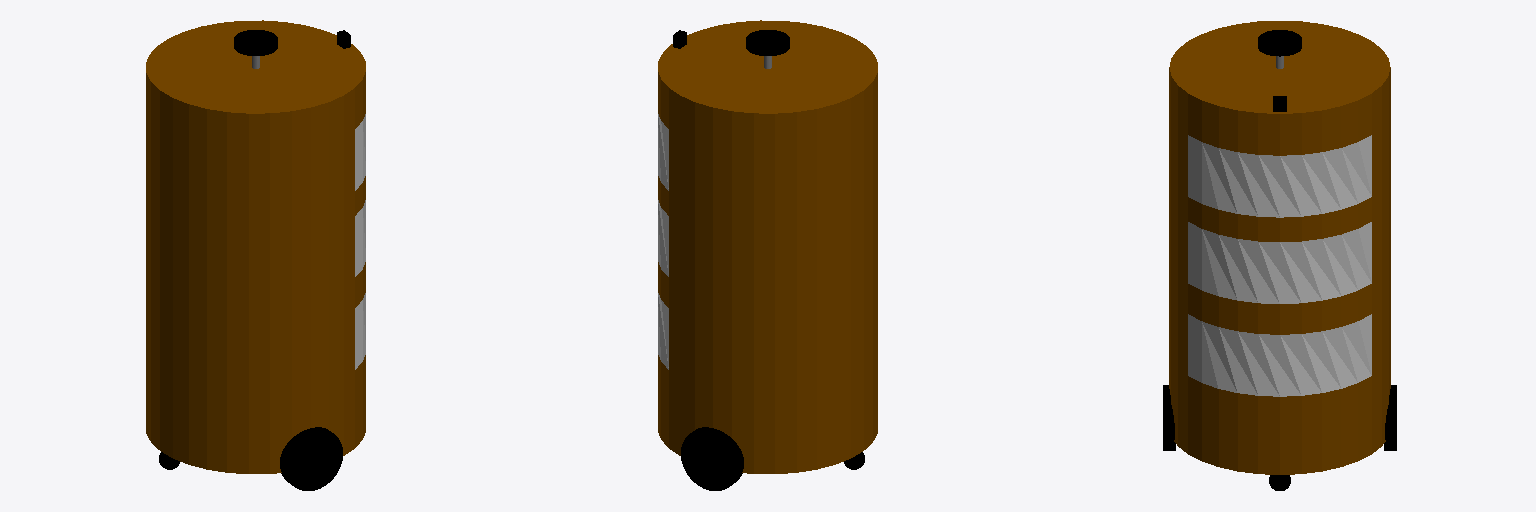
URDF robot description (my_car_camera):
<?xml version="1.0" ?>
<!-- =================================================================================== -->
<!-- |    This document was autogenerated by xacro from test.xacro                     | -->
<!-- |    EDITING THIS FILE BY HAND IS NOT RECOMMENDED                                 | -->
<!-- =================================================================================== -->
<!-- 组合小车底盘与摄像头 -->
<robot name="my_car_camera">
  <!-- 质量  -->
  <!-- 底盘 -->
  <link name="base_footprint">
    <visual>
      <geometry>
        <sphere radius="0.001"/>
      </geometry>
    </visual>
  </link>
  <link name="base_link">
    <visual>
      <geometry>
        <mesh filename="package://zj_base/meshes/modle.stl"/>
      </geometry>
      <origin rpy="0 0 0" xyz="0 0 0"/>
      <material name="yellow">
        <color rgba="0.5 0.3 0.0 0.5"/>
      </material>
    </visual>
    <collision>
      <geometry>
        <cylinder length="0.9" radius="0.25"/>
      </geometry>
      <origin rpy="0 0 0" xyz="0 0 0"/>
    </collision>
    <inertial>
      <mass value="5.0"/>
      <inertia ixx="0.4156250000000001" ixy="0" ixz="0" iyy="0.4156250000000001" iyz="0" izz="0.15625"/>
    </inertial>
  </link>
  <joint name="base_link2base_footprint" type="fixed">
    <parent link="base_footprint"/>
    <child link="base_link"/>
    <origin xyz="0 0 0.5"/>
  </joint>
  <gazebo reference="base_link">
    <material>Gazebo/Yellow</material>
  </gazebo>
  <!-- 质量  -->
  <link name="left_wheel">
    <visual>
      <geometry>
        <cylinder length="0.03" radius="0.075"/>
      </geometry>
      <origin rpy="1.5707963 0.0 0.0" xyz="0.0 0.0 0.0"/>
      <material name="black">
        <color rgba="0.0 0.0 0.0 1.0"/>
      </material>
    </visual>
    <collision>
      <geometry>
        <cylinder length="0.03" radius="0.075"/>
      </geometry>
      <origin rpy="1.5707963 0.0 0.0" xyz="0.0 0.0 0.0"/>
    </collision>
    <inertial>
      <mass value="0.2"/>
      <inertia ixx="0.00029625" ixy="0" ixz="0" iyy="0.00029625" iyz="0" izz="0.0005625"/>
    </inertial>
  </link>
  <joint name="left_wheel2base_link" type="continuous">
    <parent link="base_link"/>
    <child link="left_wheel"/>
    <origin xyz="0 0.25 -0.425"/>
    <axis xyz="0 1 0"/>
  </joint>
  <gazebo reference="left_wheel">
    <material>Gazebo/Black</material>
  </gazebo>
  <link name="right_wheel">
    <visual>
      <geometry>
        <cylinder length="0.03" radius="0.075"/>
      </geometry>
      <origin rpy="1.5707963 0.0 0.0" xyz="0.0 0.0 0.0"/>
      <material name="black">
        <color rgba="0.0 0.0 0.0 1.0"/>
      </material>
    </visual>
    <collision>
      <geometry>
        <cylinder length="0.03" radius="0.075"/>
      </geometry>
      <origin rpy="1.5707963 0.0 0.0" xyz="0.0 0.0 0.0"/>
    </collision>
    <inertial>
      <mass value="0.2"/>
      <inertia ixx="0.00029625" ixy="0" ixz="0" iyy="0.00029625" iyz="0" izz="0.0005625"/>
    </inertial>
  </link>
  <joint name="right_wheel2base_link" type="continuous">
    <parent link="base_link"/>
    <child link="right_wheel"/>
    <origin xyz="0 -0.25 -0.425"/>
    <axis xyz="0 1 0"/>
  </joint>
  <gazebo reference="right_wheel">
    <material>Gazebo/Black</material>
  </gazebo>
  <!-- 质量  -->
  <link name="front_wheel">
    <visual>
      <geometry>
        <sphere radius="0.025"/>
      </geometry>
      <origin rpy="0 0 0" xyz="0 0 0"/>
      <material name="black">
        <color rgba="0.0 0.0 0.0 1.0"/>
      </material>
    </visual>
    <collision>
      <geometry>
        <sphere radius="0.025"/>
      </geometry>
      <origin rpy="0 0 0" xyz="0 0 0"/>
    </collision>
    <inertial>
      <mass value="0.1"/>
      <inertia ixx="2.5000000000000005e-05" ixy="0" ixz="0" iyy="2.5000000000000005e-05" iyz="0" izz="2.5000000000000005e-05"/>
    </inertial>
  </link>
  <joint name="front_wheel2base_link" type="continuous">
    <parent link="base_link"/>
    <child link="front_wheel"/>
    <origin xyz="0.225 0 -0.47500000000000003"/>
    <axis xyz="1 0 0"/>
  </joint>
  <gazebo reference="front_wheel">
    <material>Gazebo/Black</material>
    <mu1>0.0</mu1>
    <!-- 滚动摩擦 -->
    <mu2>0.0</mu2>
    <!-- 滑动摩擦 -->
    <kp>1000000.0</kp>
    <kd>100.0</kd>
  </gazebo>
  <link name="back_wheel">
    <visual>
      <geometry>
        <sphere radius="0.025"/>
      </geometry>
      <origin rpy="0 0 0" xyz="0 0 0"/>
      <material name="black">
        <color rgba="0.0 0.0 0.0 1.0"/>
      </material>
    </visual>
    <collision>
      <geometry>
        <sphere radius="0.025"/>
      </geometry>
      <origin rpy="0 0 0" xyz="0 0 0"/>
    </collision>
    <inertial>
      <mass value="0.1"/>
      <inertia ixx="2.5000000000000005e-05" ixy="0" ixz="0" iyy="2.5000000000000005e-05" iyz="0" izz="2.5000000000000005e-05"/>
    </inertial>
  </link>
  <joint name="back_wheel2base_link" type="continuous">
    <parent link="base_link"/>
    <child link="back_wheel"/>
    <origin xyz="-0.225 0 -0.47500000000000003"/>
    <axis xyz="1 0 0"/>
  </joint>
  <gazebo reference="back_wheel">
    <material>Gazebo/Black</material>
    <mu1>0.0</mu1>
    <!-- 滚动摩擦 -->
    <mu2>0.0</mu2>
    <!-- 滑动摩擦 -->
    <kp>1000000.0</kp>
    <kd>100.0</kd>
  </gazebo>
  <!-- Transmission is important to link the joints and the controller -->
  <transmission name="left_wheel2base_link_trans">
    <type>transmission_interface/SimpleTransmission</type>
    <joint name="left_wheel2base_link">
      <hardwareInterface>hardware_interface/VelocityJointInterface</hardwareInterface>
    </joint>
    <actuator name="left_wheel2base_link_motor">
      <hardwareInterface>hardware_interface/VelocityJointInterface</hardwareInterface>
      <mechanicalReduction>1</mechanicalReduction>
    </actuator>
  </transmission>
  <!-- Transmission is important to link the joints and the controller -->
  <transmission name="right_wheel2base_link_trans">
    <type>transmission_interface/SimpleTransmission</type>
    <joint name="right_wheel2base_link">
      <hardwareInterface>hardware_interface/VelocityJointInterface</hardwareInterface>
    </joint>
    <actuator name="right_wheel2base_link_motor">
      <hardwareInterface>hardware_interface/VelocityJointInterface</hardwareInterface>
      <mechanicalReduction>1</mechanicalReduction>
    </actuator>
  </transmission>
  <!-- 控制器 -->
  <gazebo>
    <plugin filename="libgazebo_ros_diff_drive.so" name="differential_drive_controller">
      <rosDebugLevel>Debug</rosDebugLevel>
      <publishWheelTF>true</publishWheelTF>
      <robotNamespace>/</robotNamespace>
      <publishTf>1</publishTf>
      <publishWheelJointState>true</publishWheelJointState>
      <alwaysOn>true</alwaysOn>
      <updateRate>100.0</updateRate>
      <legacyMode>true</legacyMode>
      <leftJoint>left_wheel2base_link</leftJoint>
      <!-- 左轮 -->
      <rightJoint>right_wheel2base_link</rightJoint>
      <!-- 右轮 -->
      <wheelSeparation>0.5</wheelSeparation>
      <!-- 车轮间距 -->
      <wheelDiameter>0.15</wheelDiameter>
      <!-- 车轮直径 -->
      <broadcastTF>1</broadcastTF>
      <wheelTorque>30</wheelTorque>
      <wheelAcceleration>1.8</wheelAcceleration>
      <commandTopic>cmd_vel</commandTopic>
      <!-- 运动控制话题 -->
      <odometryFrame>odom</odometryFrame>
      <odometryTopic>odom</odometryTopic>
      <!-- 里程计话题 -->
      <robotBaseFrame>base_footprint</robotBaseFrame>
      <!-- 根坐标系 -->
    </plugin>
  </gazebo>
  <!-- 支架安装的z坐标:底盘高度 / 2 + 支架高度 / 2  -->
  <link name="suport">
    <visual>
      <geometry>
        <cylinder length="0.05" radius="0.01"/>
      </geometry>
      <origin rpy="0 0 0" xyz="0.0 0.0 0.0"/>
      <material name="grey">
        <color rgba="0.5 0.5 0.5 1.0"/>
      </material>
    </visual>
    <collision>
      <geometry>
        <cylinder length="0.05" radius="0.01"/>
      </geometry>
      <origin rpy="0 0 0" xyz="0.0 0.0 0.0"/>
    </collision>
    <inertial>
      <origin xyz="0 0 0"/>
      <mass value="0.1"/>
      <inertia ixx="0.0001" ixy="0" ixz="0" iyy="0.0001" iyz="0" izz="0.0001"/>
    </inertial>
  </link>
  <joint name="support2base_link" type="fixed">
    <parent link="base_link"/>
    <child link="suport"/>
    <origin rpy="0 0 0" xyz="0 0 0.47500000000000003"/>
  </joint>
  <link name="laser">
    <visual>
      <geometry>
        <cylinder length="0.02" radius="0.05"/>
      </geometry>
      <origin rpy="0 0 0" xyz="0 0 0"/>
      <material name="black">
        <color rgba="0.0 0.0 0.0 1.0"/>
      </material>
    </visual>
    <collision>
      <geometry>
        <cylinder length="0.02" radius="0.05"/>
      </geometry>
      <origin rpy="0 0 0" xyz="0 0 0"/>
    </collision>
    <inertial>
      <origin xyz="0 0 0"/>
      <mass value="0.2"/>
      <inertia ixx="0.0001" ixy="0" ixz="0" iyy="0.0001" iyz="0" izz="0.0001"/>
    </inertial>
  </link>
  <joint name="laser2support" type="fixed">
    <parent link="suport"/>
    <child link="laser"/>
    <origin rpy="0 0 0" xyz="0 0 0.035"/>
  </joint>
  <!-- 雷达 -->
  <gazebo reference="laser">
    <sensor name="rplidar" type="ray">
      <pose>0 0 0 0 0 0</pose>
      <visualize>false</visualize>
      <update_rate>5.5</update_rate>
      <ray>
        <scan>
          <horizontal>
            <samples>360</samples>
            <resolution>1</resolution>
            <min_angle>-3.14159</min_angle>
            <max_angle>3.14159</max_angle>
          </horizontal>
        </scan>
        <range>
          <min>0.10</min>
          <max>30.0</max>
          <resolution>0.01</resolution>
        </range>
        <noise>
          <type>gaussian</type>
          <mean>0.0</mean>
          <stddev>0.01</stddev>
        </noise>
      </ray>
      <plugin filename="libgazebo_ros_laser.so" name="gazebo_rplidar">
        <topicName>/scan</topicName>
        <frameName>laser</frameName>
      </plugin>
    </sensor>
  </gazebo>
  <link name="camera">
    <visual>
      <geometry>
        <box size="0.03 0.02 0.03"/>
      </geometry>
      <origin rpy="0 0 1.5705" xyz="0 0 0"/>
      <material name="black">
        <color rgba="0.0 0.0 0.0 1.0"/>
      </material>
    </visual>
    <collision>
      <geometry>
        <box size="0.03 0.02 0.03"/>
      </geometry>
      <origin rpy="0 0 1.5705" xyz="0 0 0"/>
    </collision>
    <inertial>
      <origin xyz="0 0 0"/>
      <mass value="0.1"/>
      <inertia ixx="0.0001" ixy="0" ixz="0" iyy="0.0001" iyz="0" izz="0.0001"/>
    </inertial>
  </link>
  <joint name="camera2base_link" type="fixed">
    <parent link="base_link"/>
    <child link="camera"/>
    <origin rpy="0 0 0" xyz="0.23 0.0 0.465"/>
  </joint>
  <gazebo reference="camera">
    <material>Gazebo/Black</material>
  </gazebo>
  <!-- 抽屉组件1 -->
  <link name="drawer">
    <visual>
      <geometry>
        <mesh filename="package://zj_base/meshes/box.stl"/>
      </geometry>
      <origin rpy="0 0 0" xyz="0 0 0"/>
      <material name="drawer_material">
        <color rgba="0.8 0.8 0.8 1.0"/>
      </material>
    </visual>
    <collision>
      <geometry>
        <box size="0.1 0.15 0.05"/>
      </geometry>
      <origin rpy="0 0 0" xyz="0 0 0"/>
    </collision>
    <inertial>
      <origin xyz="0 0 0"/>
      <mass value="0.2"/>
      <inertia ixx="0.0001" ixy="0" ixz="0" iyy="0.0001" iyz="0" izz="0.0001"/>
    </inertial>
  </link>
  <joint name="drawer2base_link" type="prismatic">
    <parent link="base_link"/>
    <child link="drawer"/>
    <origin rpy="0 0 0" xyz="0 0 0"/>
    <axis xyz="1 0 0"/>
    <limit effort="100" lower="-0.2" upper="0.2" velocity="2.0"/>
  </joint>
  <gazebo reference="drawer">
    <material>Gazebo/Grey</material>
  </gazebo>
  <!-- 抽屉控制器1 -->
  <transmission name="drawer2base_link_trans">
    <type>transmission_interface/SimpleTransmission</type>
    <joint name="drawer2base_link">
      <hardwareInterface>hardware_interface/PositionJointInterface</hardwareInterface>
    </joint>
    <actuator name="drawer2base_link_motor">
      <hardwareInterface>hardware_interface/PositionJointInterface</hardwareInterface>
      <mechanicalReduction>1</mechanicalReduction>
    </actuator>
  </transmission>


<!-- 抽屉组件2 -->
  <link name="drawer2">
    <visual>
      <geometry>
        <mesh filename="package://zj_base/meshes/box2.stl"/>
      </geometry>
      <origin rpy="0 0 0" xyz="0 0 0"/>
      <material name="drawer_material">
        <color rgba="0.8 0.8 0.8 1.0"/>
      </material>
    </visual>
    <collision>
      <geometry>
        <box size="0.1 0.15 0.05"/>
      </geometry>
      <origin rpy="0 0 0" xyz="0 0 0"/>
    </collision>
    <inertial>
      <origin xyz="0 0 0"/>
      <mass value="0.2"/>
      <inertia ixx="0.0001" ixy="0" ixz="0" iyy="0.0001" iyz="0" izz="0.0001"/>
    </inertial>
  </link>
  <joint name="drawer22base_link" type="prismatic">
    <parent link="base_link"/>
    <child link="drawer2"/>
    <origin rpy="0 0 0" xyz="0 0 0"/>
    <axis xyz="1 0 0"/>
    <limit effort="100" lower="-0.2" upper="0.2" velocity="2.0"/>
  </joint>
  <gazebo reference="drawer">
    <material>Gazebo/Grey</material>
  </gazebo>
  <!-- 抽屉控制器2 -->
  <!-- <transmission name="drawer22base_link_trans">
    <type>transmission_interface/SimpleTransmission</type>
    <joint name="drawer22base_link">
      <hardwareInterface>hardware_interface/PositionJointInterface</hardwareInterface>
    </joint>
    <actuator name="drawer22base_link_motor">
      <hardwareInterface>hardware_interface/PositionJointInterface</hardwareInterface>
      <mechanicalReduction>1</mechanicalReduction>
    </actuator>
  </transmission>
 -->


<!-- 抽屉组件3 -->
  <link name="drawer3">
    <visual>
      <geometry>
        <mesh filename="package://zj_base/meshes/box3.stl"/>
      </geometry>
      <origin rpy="0 0 0" xyz="0 0 0"/>
      <material name="drawer_material">
        <color rgba="0.8 0.8 0.8 1.0"/>
      </material>
    </visual>
    <collision>
      <geometry>
        <box size="0.1 0.15 0.05"/>
      </geometry>
      <origin rpy="0 0 0" xyz="0 0 0"/>
    </collision>
    <inertial>
      <origin xyz="0 0 0"/>
      <mass value="0.2"/>
      <inertia ixx="0.0001" ixy="0" ixz="0" iyy="0.0001" iyz="0" izz="0.0001"/>
    </inertial>
  </link>
  <joint name="drawer32base_link" type="prismatic">
    <parent link="base_link"/>
    <child link="drawer3"/>
    <origin rpy="0 0 0" xyz="0 0 0"/>
    <axis xyz="1 0 0"/>
    <limit effort="100" lower="-0.2" upper="0.2" velocity="2.0"/>
  </joint>
  <gazebo reference="drawer">
    <material>Gazebo/Grey</material>
  </gazebo>
  <!-- 抽屉控制器3 -->
  <!-- <transmission name="drawer32base_link_trans">
    <type>transmission_interface/SimpleTransmission</type>
    <joint name="drawer32base_link">
      <hardwareInterface>hardware_interface/PositionJointInterface</hardwareInterface>
    </joint>
    <actuator name="drawer32base_link_motor">
      <hardwareInterface>hardware_interface/PositionJointInterface</hardwareInterface>
      <mechanicalReduction>1</mechanicalReduction>
    </actuator>
  </transmission> -->



  <!-- 被引用的link -->
  <gazebo reference="camera">
    <!-- 类型设置为 camara -->
    <sensor name="camera_node" type="camera">
      <update_rate>30.0</update_rate>
      <!-- 更新频率 -->
      <!-- 摄像头基本信息设置 -->
      <camera name="head">
        <horizontal_fov>1.3962634</horizontal_fov>
        <image>
          <width>1280</width>
          <height>720</height>
          <format>R8G8B8</format>
        </image>
        <clip>
          <near>0.02</near>
          <far>300</far>
        </clip>
        <noise>
          <type>gaussian</type>
          <mean>0.0</mean>
          <stddev>0.007</stddev>
        </noise>
      </camera>
      <!-- 核心插件 -->
      <plugin filename="libgazebo_ros_camera.so" name="gazebo_camera">
        <alwaysOn>true</alwaysOn>
        <updateRate>0.0</updateRate>
        <cameraName>/camera</cameraName>
        <imageTopicName>image_raw</imageTopicName>
        <cameraInfoTopicName>camera_info</cameraInfoTopicName>
        <frameName>camera</frameName>
        <hackBaseline>0.07</hackBaseline>
        <distortionK1>0.0</distortionK1>
        <distortionK2>0.0</distortionK2>
        <distortionK3>0.0</distortionK3>
        <distortionT1>0.0</distortionT1>
        <distortionT2>0.0</distortionT2>
      </plugin>
    </sensor>
  </gazebo>
  <gazebo reference="kinect link名称">
    <sensor name="camera" type="depth">
      <always_on>true</always_on>
      <update_rate>20.0</update_rate>
      <camera>
        <horizontal_fov>1.0470000000000002</horizontal_fov>
        <image>
          <format>R8G8B8</format>
          <width>640</width>
          <height>480</height>
        </image>
        <clip>
          <near>0.05</near>
          <far>8.0</far>
        </clip>
      </camera>
      <plugin filename="libgazebo_ros_openni_kinect.so" name="kinect_camera_controller">
        <cameraName>camera</cameraName>
        <alwaysOn>true</alwaysOn>
        <updateRate>10</updateRate>
        <imageTopicName>rgb/image_raw</imageTopicName>
        <depthImageTopicName>depth/image_raw</depthImageTopicName>
        <pointCloudTopicName>depth/points</pointCloudTopicName>
        <cameraInfoTopicName>rgb/camera_info</cameraInfoTopicName>
        <depthImageCameraInfoTopicName>depth/camera_info</depthImageCameraInfoTopicName>
        <frameName>kinect link名称</frameName>
        <baseline>0.1</baseline>
        <distortion_k1>0.0</distortion_k1>
        <distortion_k2>0.0</distortion_k2>
        <distortion_k3>0.0</distortion_k3>
        <distortion_t1>0.0</distortion_t1>
        <distortion_t2>0.0</distortion_t2>
        <pointCloudCutoff>0.4</pointCloudCutoff>
      </plugin>
    </sensor>
  </gazebo>
</robot>

--- Render facts (derived) ---
Views: 3 orthographic renders of the robot side by side, from view 1: azimuth 30°, elevation 25°; view 2: azimuth 150°, elevation 25°; view 3: azimuth 270°, elevation 25°.
Robot: my_car_camera — 12 links, 11 joints (4 continuous, 3 prismatic, 4 fixed); root link base_footprint; default pose: every joint at zero.
Links seen in each view (by area): view 1: base_link, right_wheel, laser, drawer, drawer3, drawer2; view 2: base_link, left_wheel, laser, drawer, drawer3, drawer2; view 3: base_link, drawer2, drawer, drawer3, laser, left_wheel, right_wheel.
Boxes of the visible links, box(x1,y1,x2,y2) form: base_link: box(146, 20, 365, 473); right_wheel: box(280, 427, 342, 490); laser: box(234, 30, 277, 55); drawer: box(355, 114, 365, 190); drawer3: box(355, 293, 365, 369); drawer2: box(355, 200, 365, 276); base_link: box(658, 20, 877, 473); left_wheel: box(681, 427, 743, 490); laser: box(746, 30, 789, 55); drawer: box(658, 114, 668, 190); drawer3: box(658, 293, 668, 369); drawer2: box(658, 200, 668, 276); base_link: box(1169, 21, 1390, 474); drawer2: box(1188, 222, 1371, 303); drawer: box(1188, 135, 1371, 217); drawer3: box(1188, 314, 1371, 396); laser: box(1258, 30, 1301, 56); left_wheel: box(1384, 385, 1396, 450); right_wheel: box(1163, 385, 1175, 450).
Bounding box of the posed robot: 0.5 × 0.53 × 1.02 m (x, y, z).
Meshes: 4 distinct files referenced, 4 mesh visuals loaded (4 binary STL).
